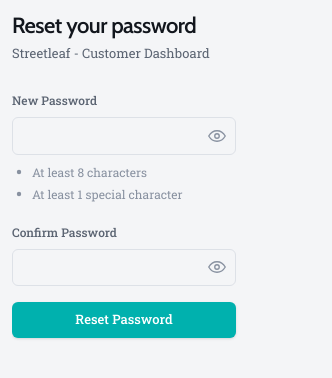
Test: ResetPasswordForm › shows 'Passwords do not match.' live as soon as they diverge
In the password field labelled "New Password": (124,136) [12, 117, 236, 154], type "Pass.123"
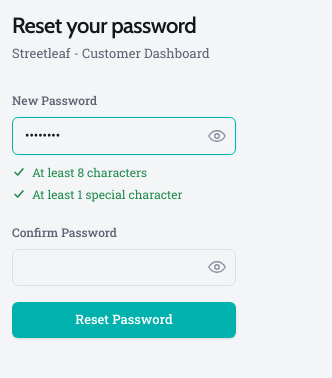
In the password field labelled "Confirm Password": (124,267) [12, 248, 236, 286], type "Pass.124"
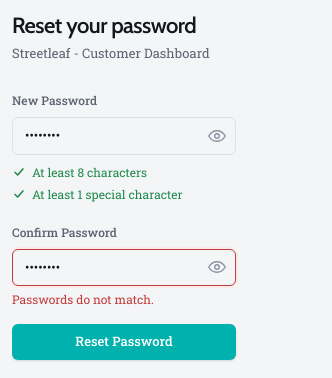
Expected: the text "Passwords do not match." is shown, [12, 291, 154, 307]
